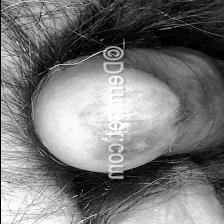Potentially Malignant Skin Tumors: (30, 57, 174, 174)
